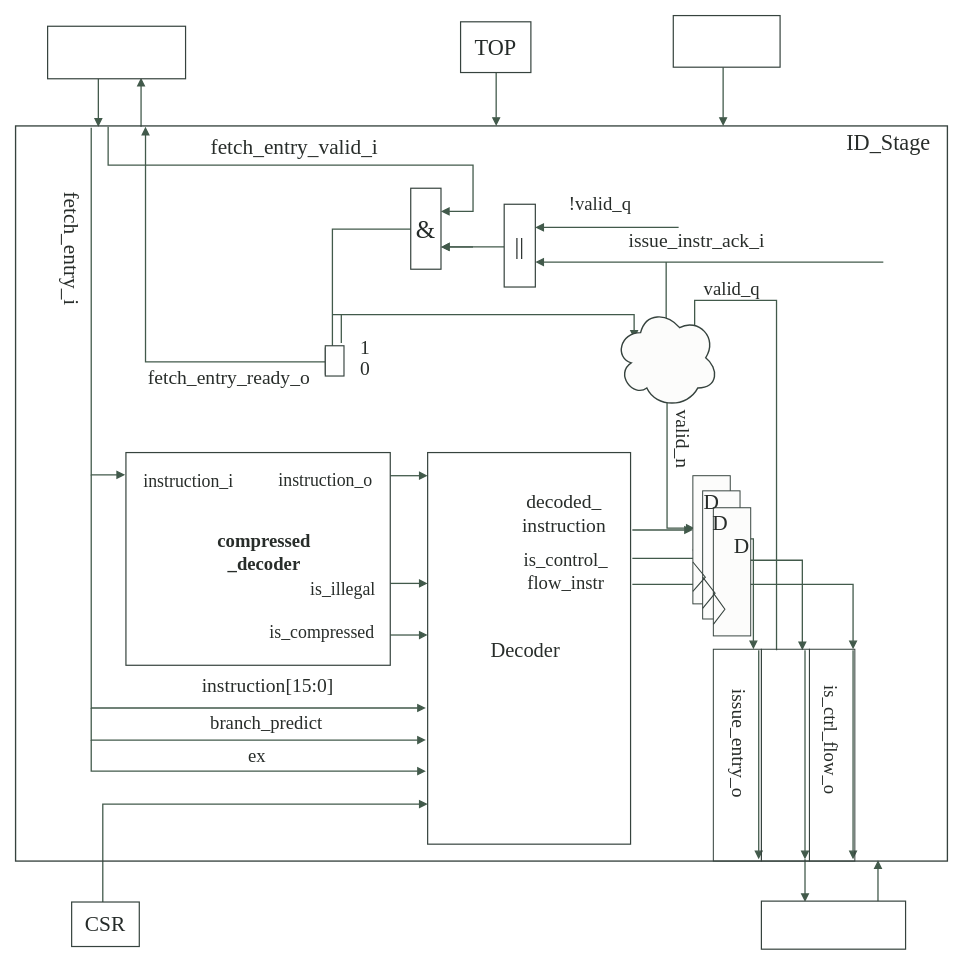
The diagram is 964 pixels wide and 966 high, and some of its shapes have lost their labels. Here are the shapes that lost their labels. From the top down, the box of each, then its label:
(47, 25, 186, 79): IF_Frontend
(672, 15, 780, 67): Controller
(760, 648, 810, 861): issue_entry_valid_o
(760, 900, 906, 949): Issue_Stage
